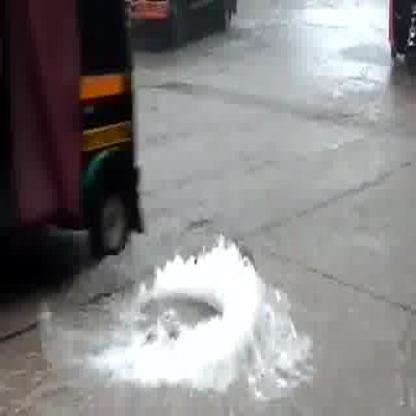drainage overflow-repair-: (72, 229, 322, 416)
